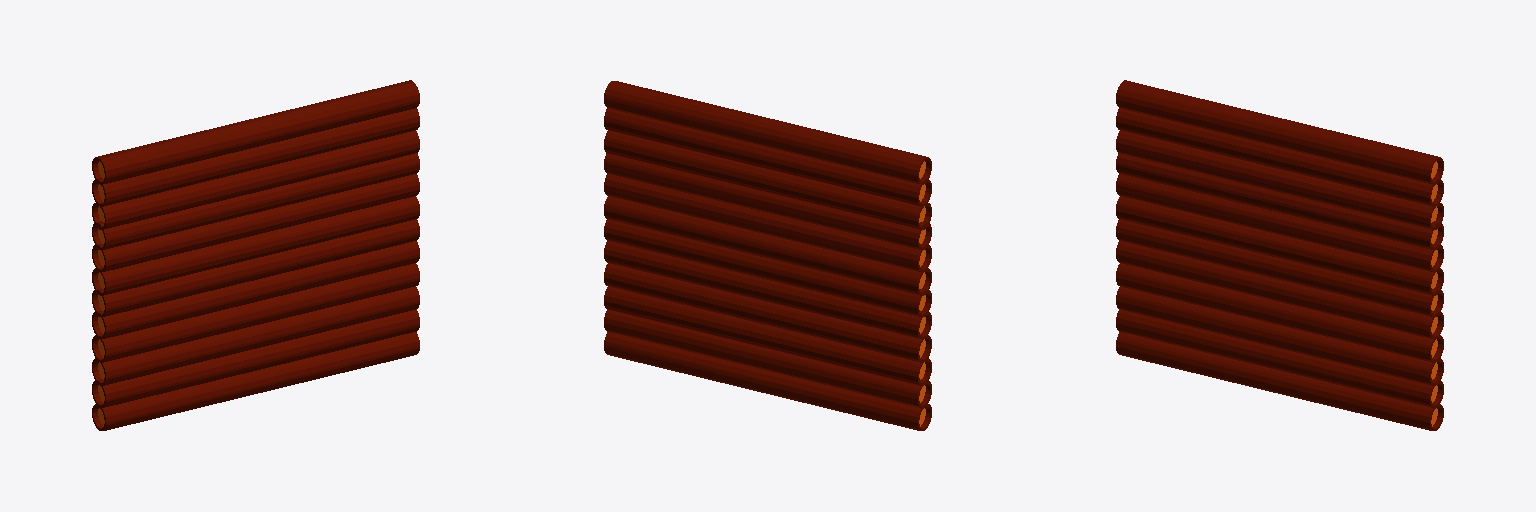
Rendered from WoodenWall.obj.
3 renders of one model, left to right at view 1: azimuth 30°, elevation 25°; view 2: azimuth 150°, elevation 25°; view 3: azimuth 330°, elevation 25°, orthographic.
Visible parts, largest first — view 1: Cylinder.011; view 2: Cylinder.011; view 3: Cylinder.011.
Part boxes in pixels (left/top/right/bottom): Cylinder.011: left=92, top=80, right=419, bottom=430; Cylinder.011: left=604, top=81, right=931, bottom=430; Cylinder.011: left=1116, top=80, right=1443, bottom=430.
Bounding box in the file's own units: 11.21 × 9.29 × 0.8859.